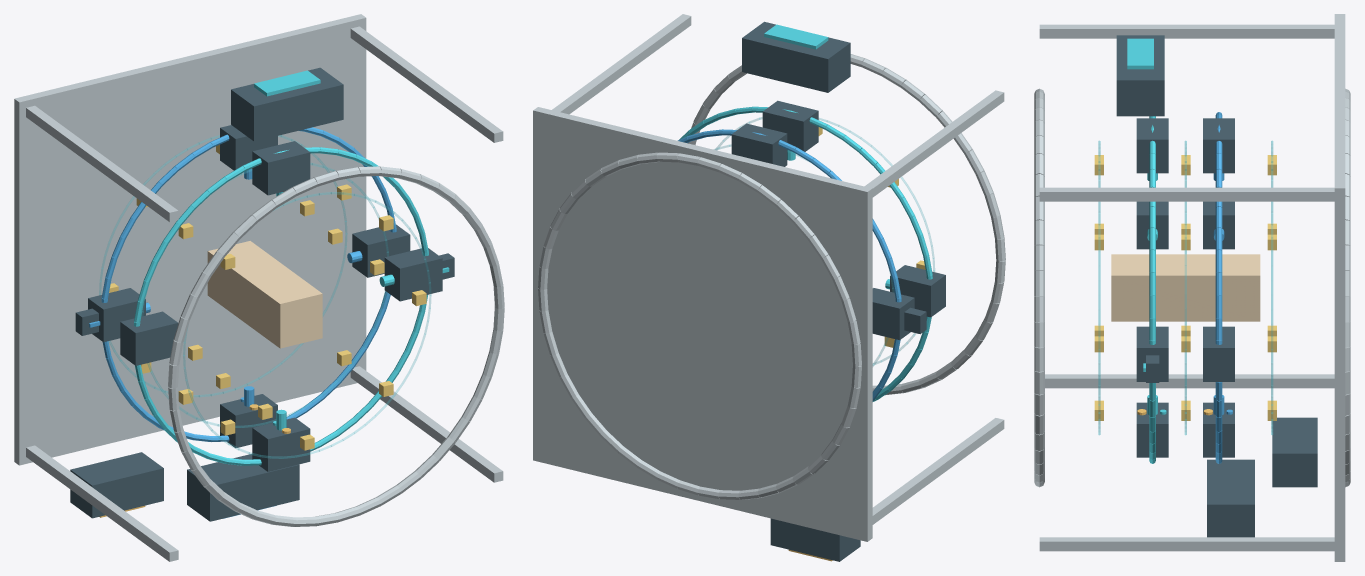
The model's file is SPLIT-SPECTRUM-MIST-cassette.glb.
3 renders of one model, left to right at view 1: azimuth 30°, elevation 25°; view 2: azimuth 150°, elevation 25°; view 3: azimuth 270°, elevation 25°, orthographic. The views are drawn at different scales.
Parts seen in each view (by area): view 1: frame, dark, target, coarse, fine, wall, sensor; view 2: frame, dark, coarse, fine, wall; view 3: frame, dark, target, coarse, sensor, fine, wall.
Boxes of the visible parts, x1,y1,x2,y2 form: frame: (14,14,504,561); dark: (70,67,454,521); target: (207,241,322,348); coarse: (134,70,449,465); fine: (89,127,396,518); wall: (99,135,431,458); sensor: (109,144,426,450); frame: (533,14,1005,541); dark: (731,21,945,561); coarse: (679,24,932,401); fine: (677,129,901,401); wall: (714,117,934,366); frame: (1034,14,1350,561); dark: (1116,35,1317,537); target: (1111,254,1260,321); coarse: (1127,38,1166,463); sensor: (1094,155,1276,420); fine: (1213,112,1232,463); wall: (1098,140,1273,435).
Bounding box in the file's own units: 0.31 × 0.391 × 0.238.
